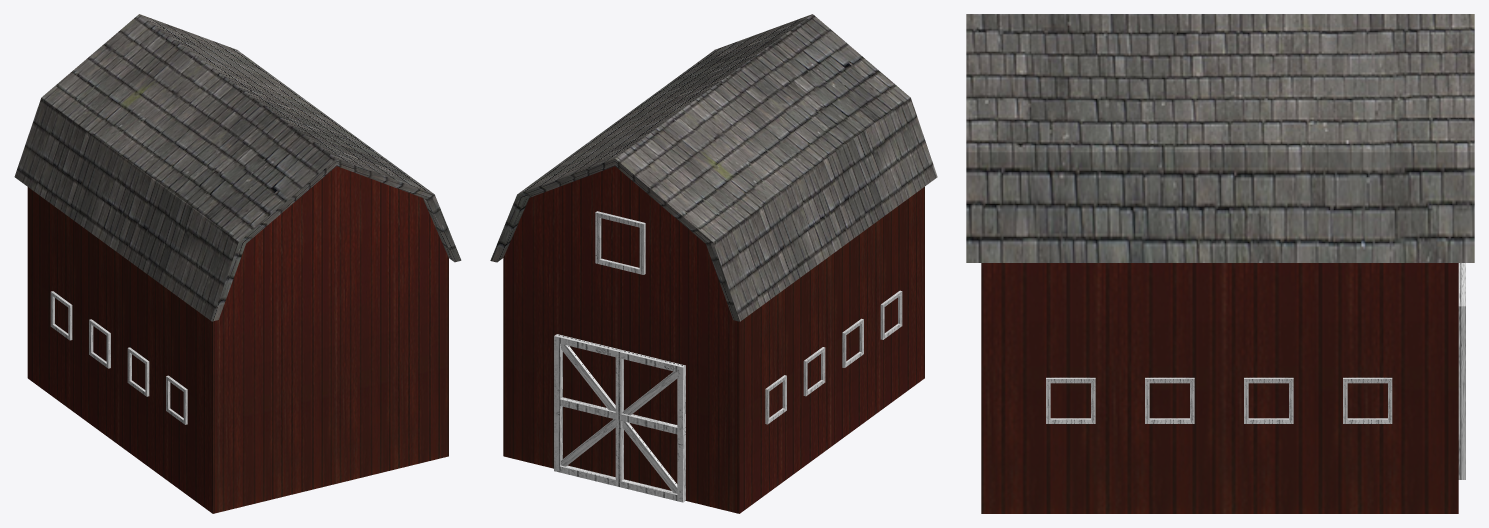
The model's file is Barn.fbx.
The picture shows the model from 3 angles, left to right: view 1: azimuth 30°, elevation 25°; view 2: azimuth 150°, elevation 25°; view 3: azimuth 270°, elevation 25°; orthographic projection. The views are drawn at different scales.
Parts seen in each view (by area): view 1: Barn; view 2: Barn; view 3: Barn.
Part boxes in pixels (bbox=[...]): Barn: bbox=[14, 14, 461, 513]; Barn: bbox=[490, 14, 937, 513]; Barn: bbox=[966, 14, 1474, 513].
Bounding box in the file's own units: 3.87 × 5.3 × 4.9.
Materials: 1 (1 with a texture image).
